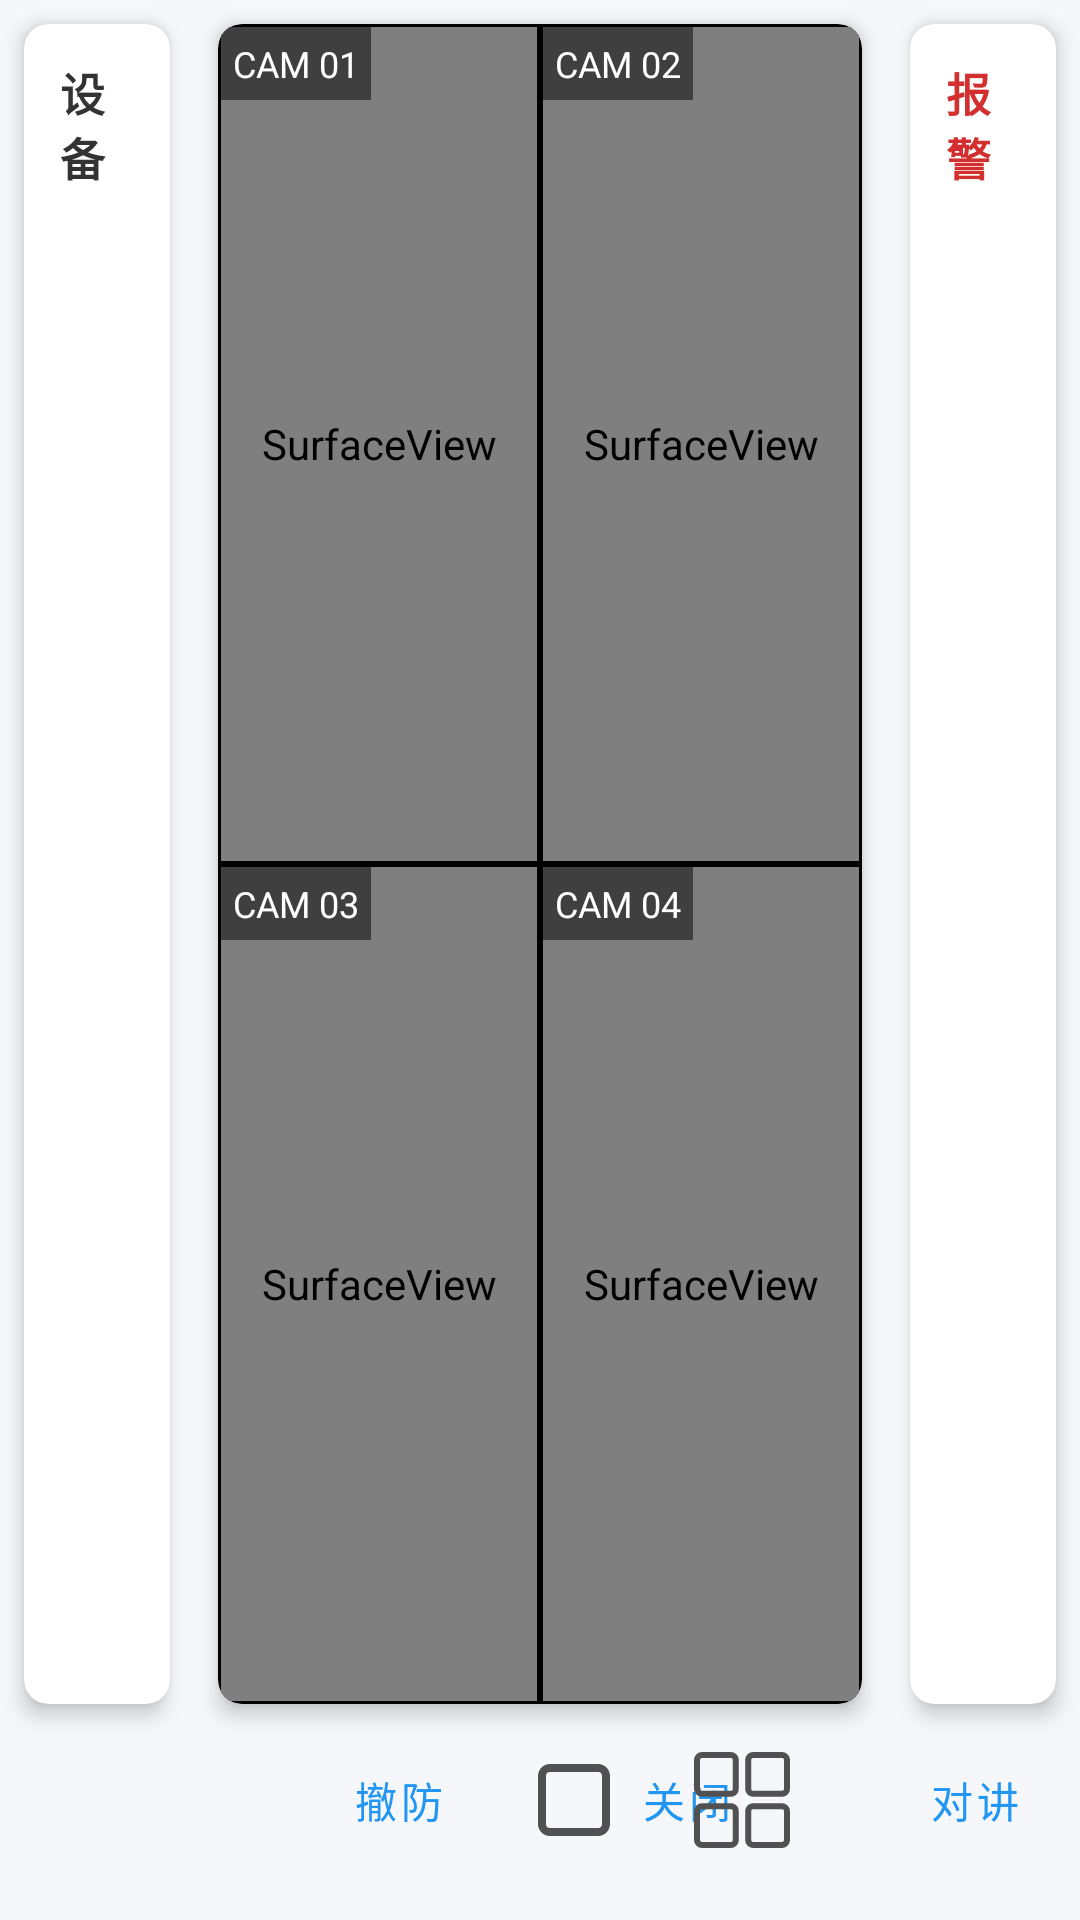

Named icons in this screenshot (1080w x 1920h) and their centers, (x,y):
一宫格视图: (574,1800)
四宫格视图: (741,1800)
